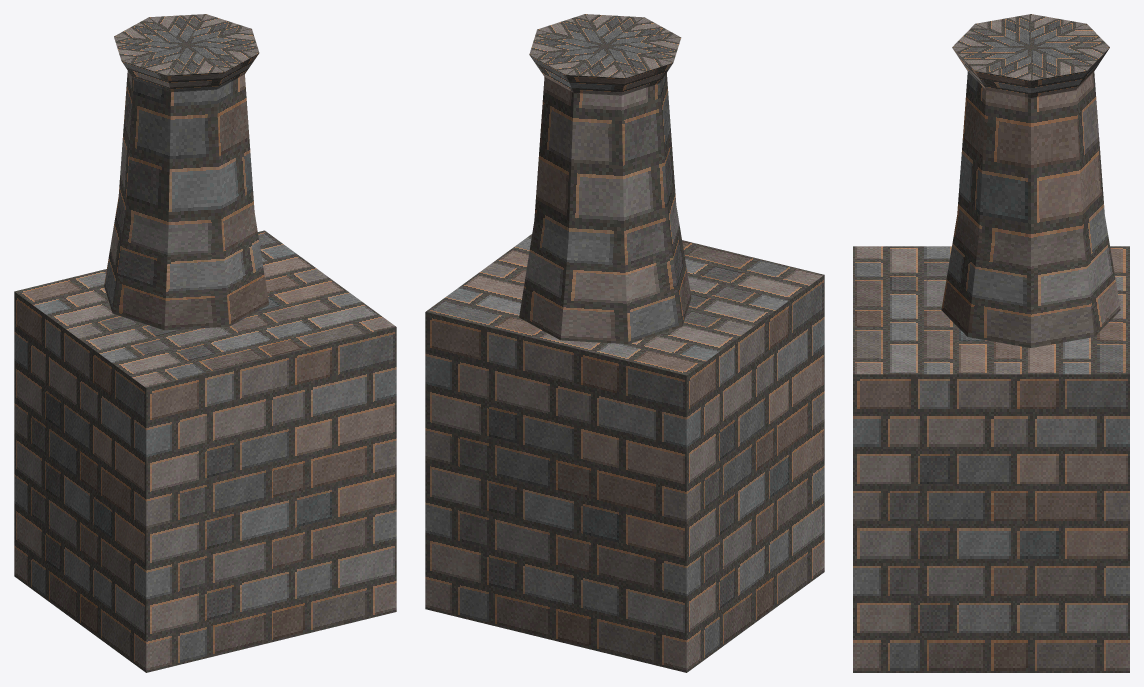
File: fornalha.glb
The picture shows the model from 3 angles, left to right: view 1: azimuth 30°, elevation 25°; view 2: azimuth 150°, elevation 25°; view 3: azimuth 270°, elevation 25°; orthographic projection. The views are drawn at different scales.
Parts seen in each view (by area): view 1: fornalha; view 2: fornalha; view 3: fornalha.
Part boxes in pixels (box(x1,y1,x2,y2)): fornalha: box(14, 14, 396, 672); fornalha: box(425, 14, 824, 672); fornalha: box(853, 14, 1129, 672).
Size of the model in its own units: 1.15 by 2.35 by 1.05.
1 material, 1 textured.
